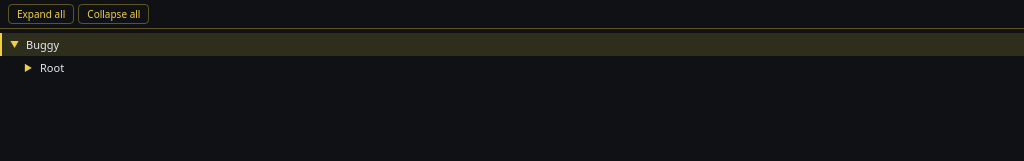
it: PipeNavTree toolbar › expands every nested pipe, then collapses back to the stack
Check: the text "Root" is shown, box [40, 60, 64, 75]
Check: the text "Mid" is not shown
Click the button with test id "pipe-nav-tree-expand-all": (41, 14) [8, 4, 74, 24]
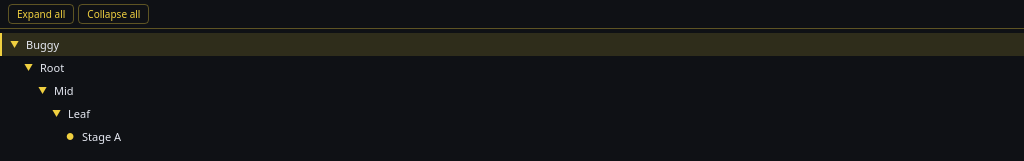
Check: the text "Mid" is shown, box [54, 83, 74, 98]
Check: the text "Leaf" is shown, box [68, 106, 90, 121]
Check: the text "Stage A" is shown, box [82, 129, 121, 144]
Click the button with test id "pipe-nav-tree-collapse-all": (114, 14) [78, 4, 149, 24]
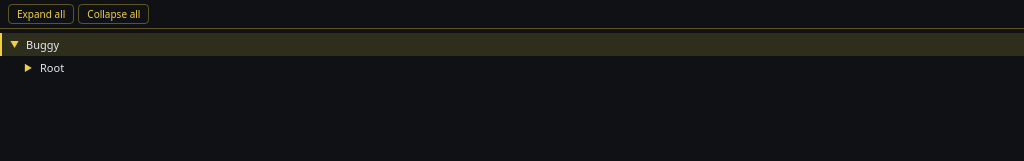
Check: the text "Root" is shown, box [40, 60, 64, 75]
Check: the text "Mid" is gone
